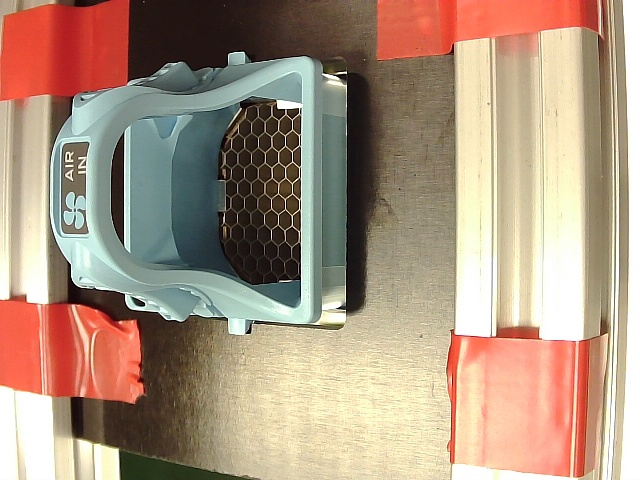2_0: (29, 30, 365, 366)
